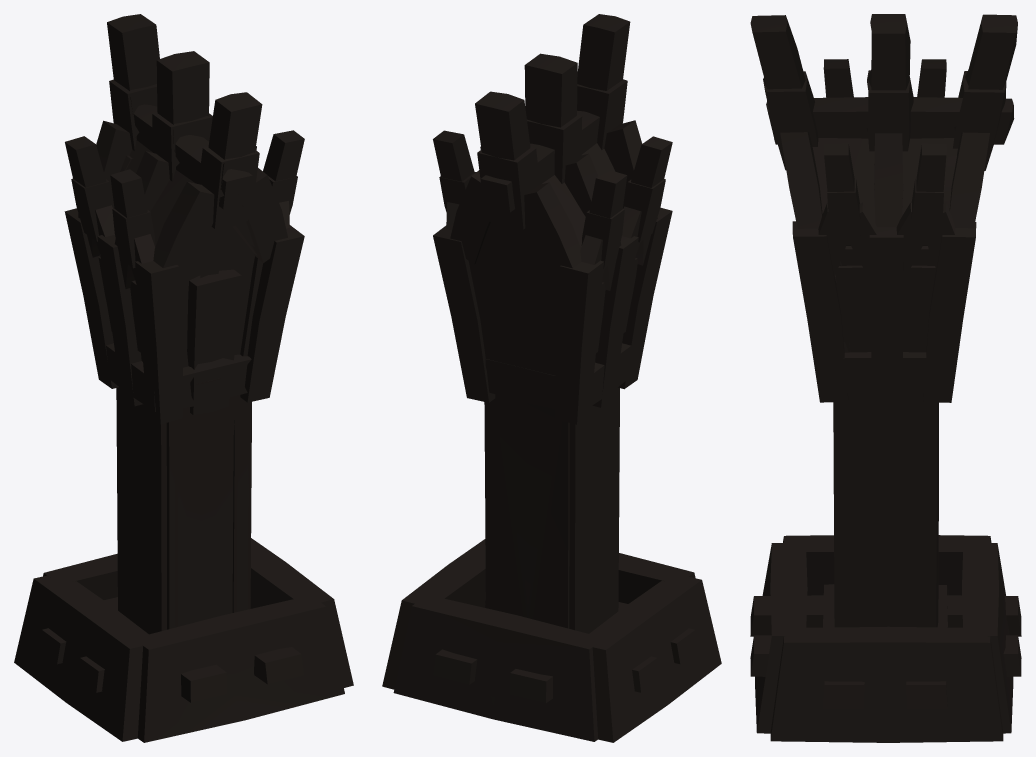
File: tile_tower_outline.fbx
The picture shows the model from 3 angles, left to right: view 1: azimuth 30°, elevation 25°; view 2: azimuth 150°, elevation 25°; view 3: azimuth 270°, elevation 25°; orthographic projection. The views are drawn at different scales.
Parts seen in each view (by area): view 1: Cylinder002544; view 2: Cylinder002544; view 3: Cylinder002544.
Part boxes in pixels (bbox=[...]): Cylinder002544: bbox=[14, 14, 353, 742]; Cylinder002544: bbox=[382, 14, 721, 742]; Cylinder002544: bbox=[750, 14, 1021, 742].
Bounding box in the file's own units: 1.74 × 1.62 × 4.37.
Materials: 1 (1 with a texture image).
